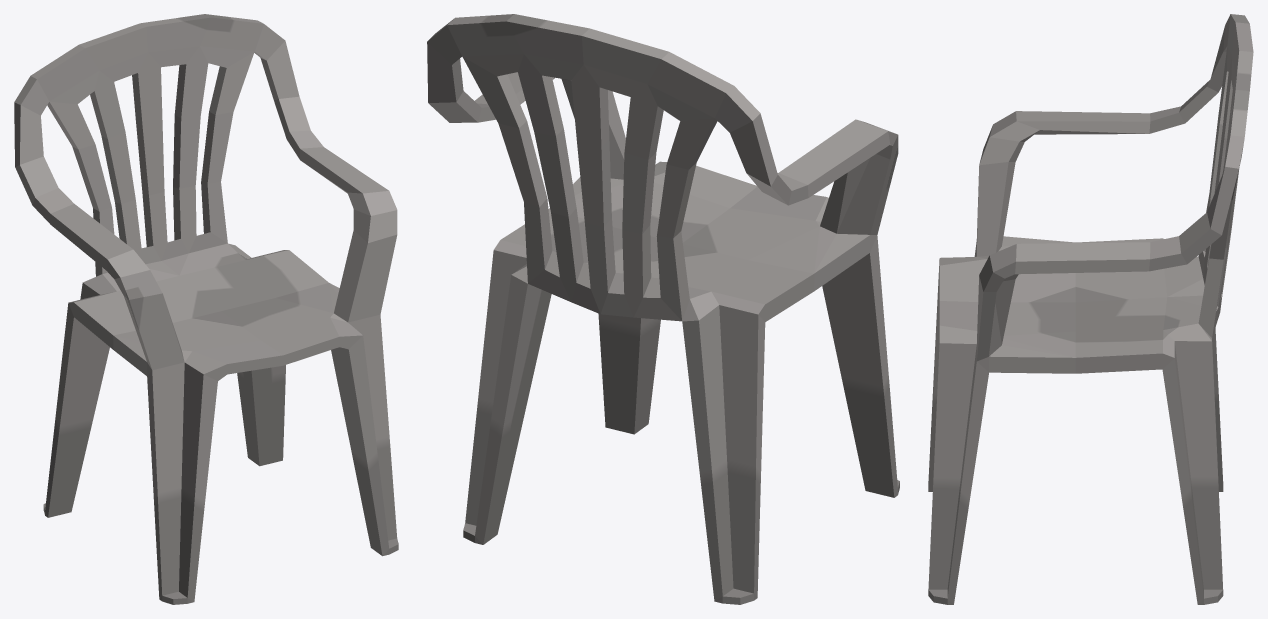
The model's file is SM_Prop_Chair_Plastic_01.glb.
3 views of the same model, side by side, from view 1: azimuth 30°, elevation 25°; view 2: azimuth 150°, elevation 25°; view 3: azimuth 270°, elevation 25° (orthographic). The views are drawn at different scales.
Visible parts, largest first — view 1: SM_Prop_Chair_Plastic_01; view 2: SM_Prop_Chair_Plastic_01; view 3: SM_Prop_Chair_Plastic_01.
Boxes of the visible parts, <box> form: SM_Prop_Chair_Plastic_01: <box>14,14,398,604</box>; SM_Prop_Chair_Plastic_01: <box>427,14,899,604</box>; SM_Prop_Chair_Plastic_01: <box>928,14,1253,604</box>.
Size of the model in its own units: 0.6654 by 1 by 0.6019.
Materials: 1 (1 with a texture image).
